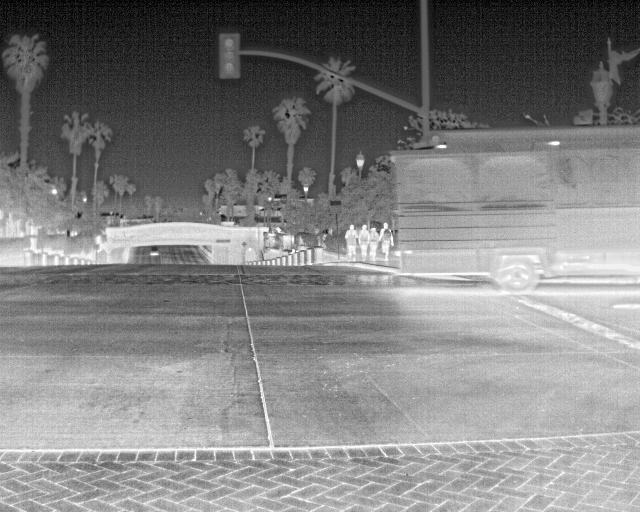bicycle: (147, 246, 160, 258)
empty: (374, 224, 391, 262), (355, 222, 371, 259), (345, 224, 359, 258), (366, 229, 378, 260)
